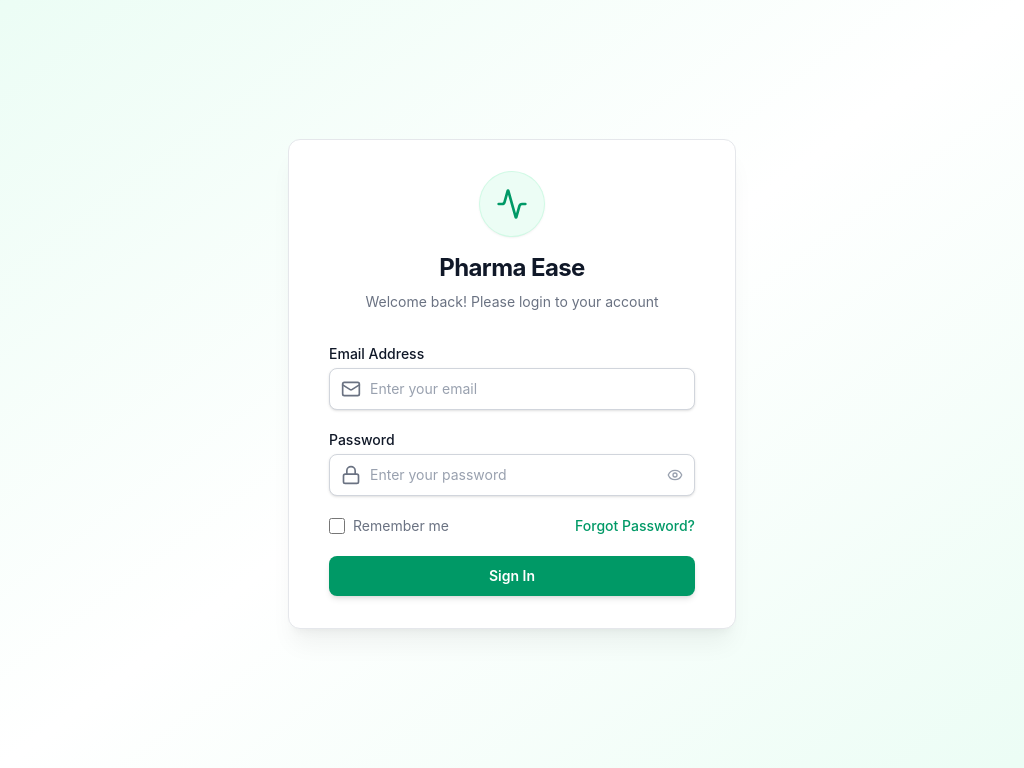
Test case: LoginView.vue Unit Tests › displays error message on failed login
The image size is (1024, 768).
Type "wrong@pharma.com" into the field labelled "Email Address".
click(512, 389); type("wrong@pharma.com")  # box 329,368 -> 695,410
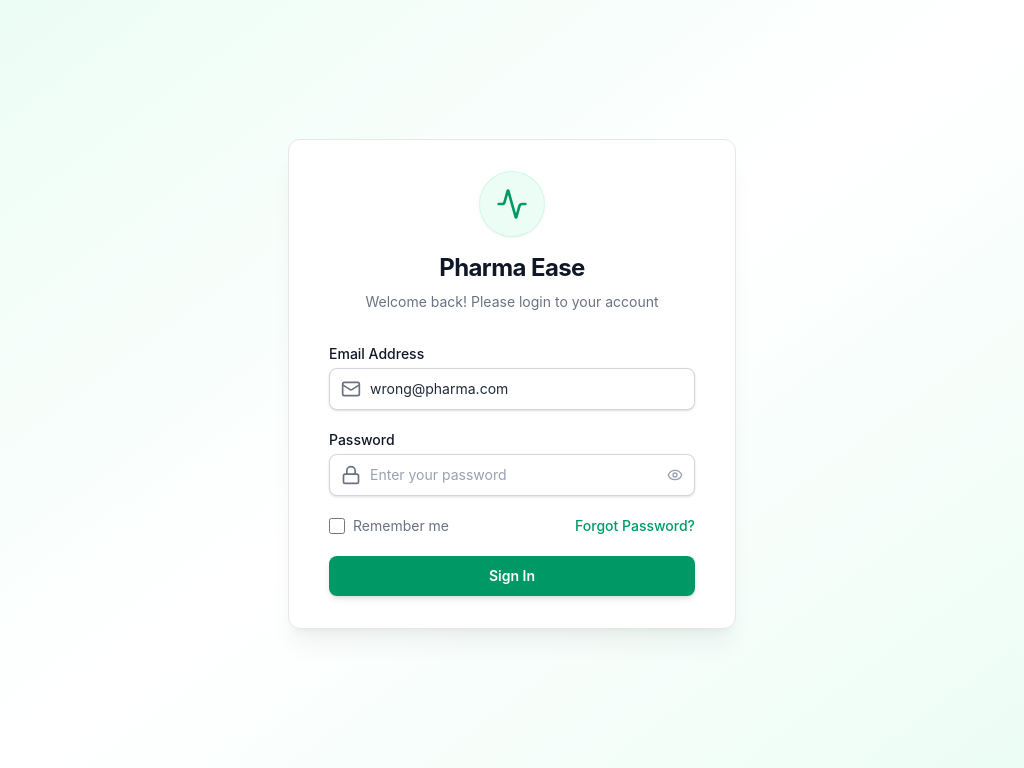
Type "wrongpassword" into the password field labelled "Password".
click(512, 475); type("wrongpassword")  # box 329,454 -> 695,496
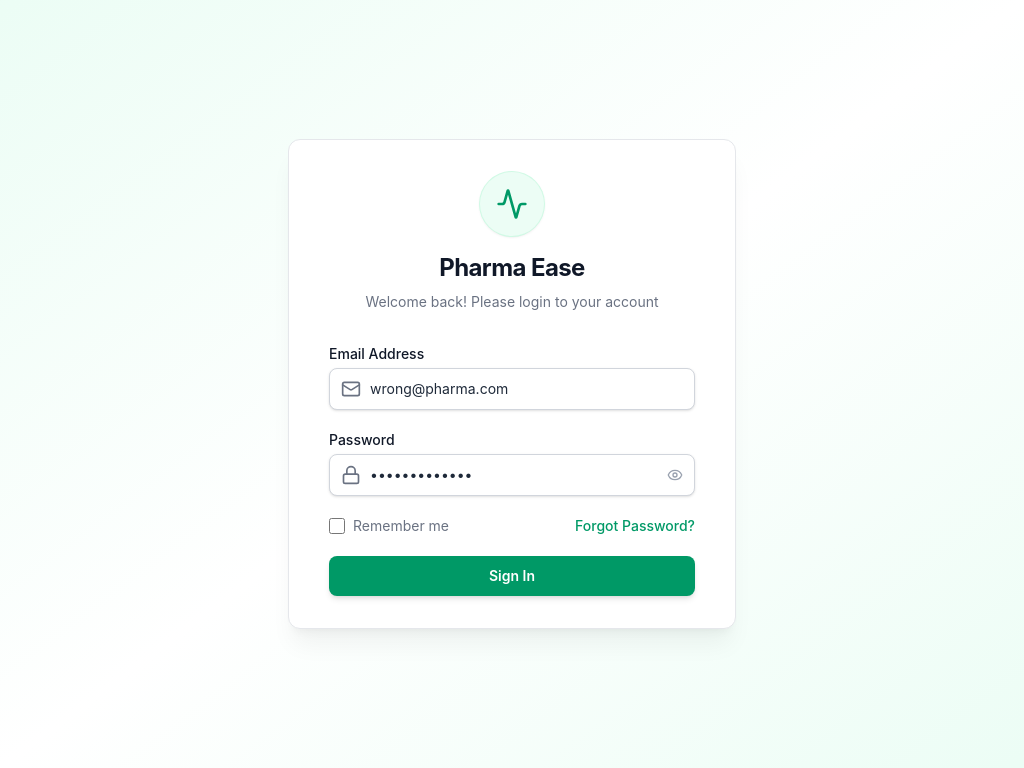
Submit the form, box 329,344 -> 695,596
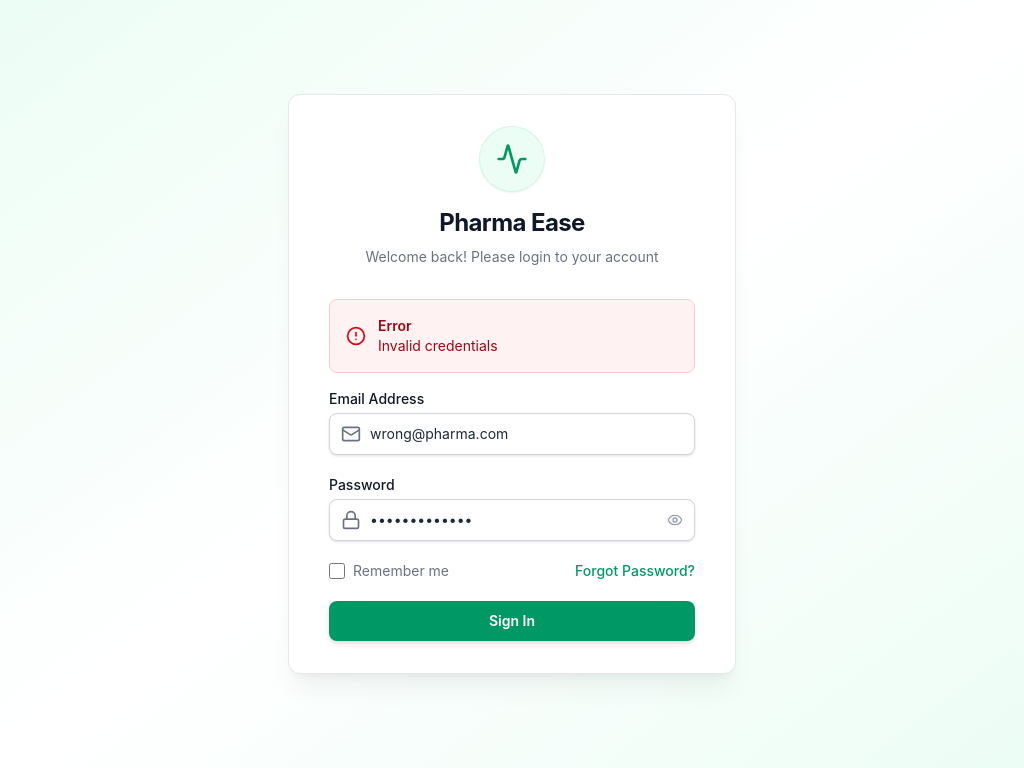
Expected: the text "Invalid credentials" is shown, 378,336 -> 498,356
